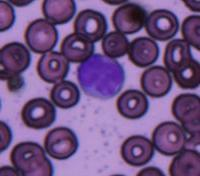M: (77, 52, 125, 98)
